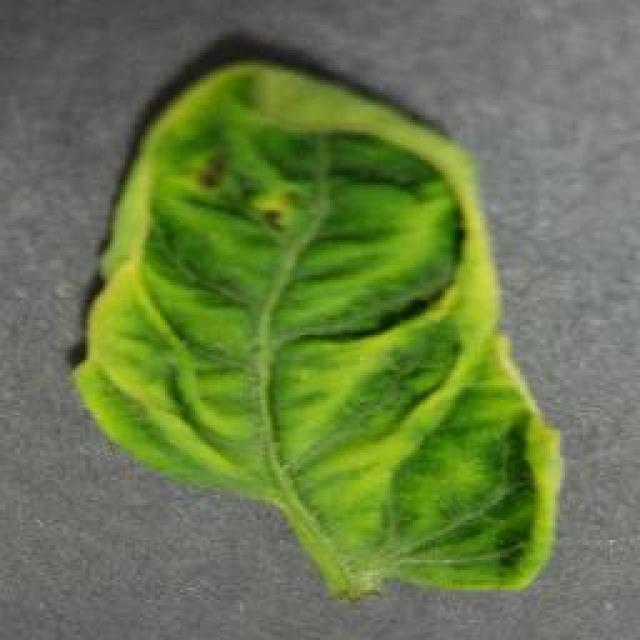Tom_Yellow_Leaf_Curl_Virus: (103, 82, 545, 562)
